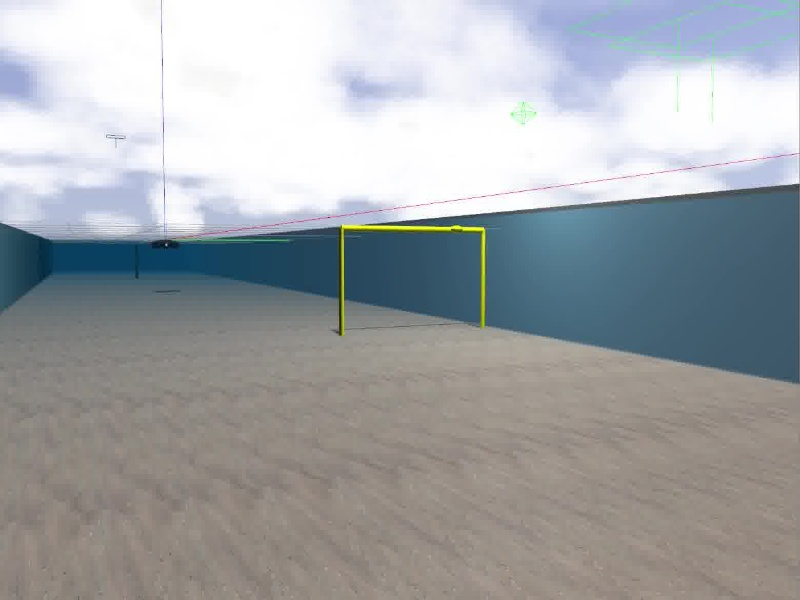gate: (337, 222, 487, 335)
